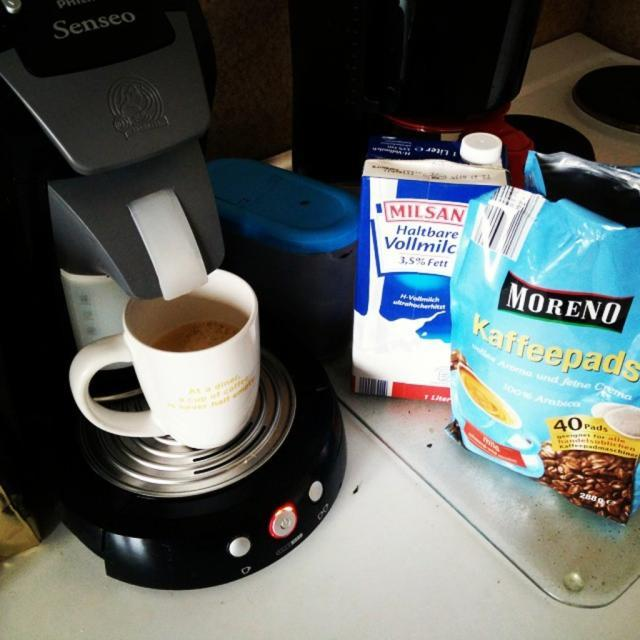Coffee-Machine: (12, 1, 348, 612), (0, 28, 100, 608)
